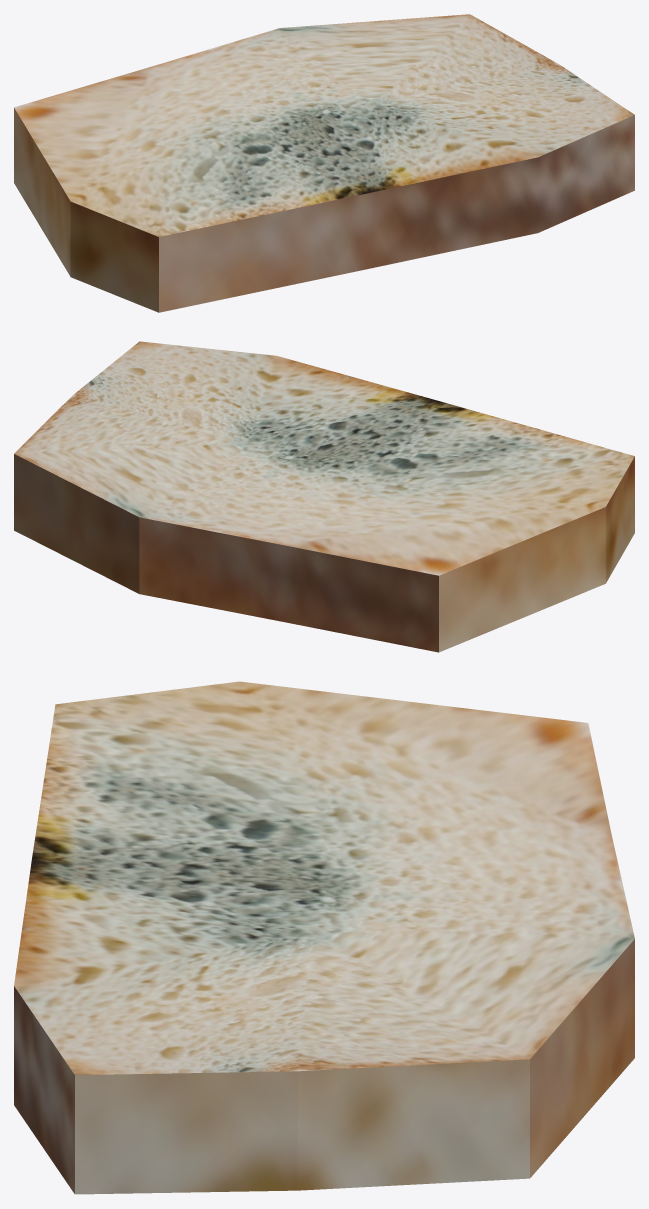
The model's file is bread.glb.
The picture shows the model from 3 angles, top to bottom: view 1: azimuth 30°, elevation 25°; view 2: azimuth 150°, elevation 25°; view 3: azimuth 270°, elevation 25°; orthographic projection. The views are drawn at different scales.
Visible parts, largest first — view 1: Bread; view 2: Bread; view 3: Bread.
Part boxes in pixels (bbox=[...]): Bread: bbox=[14, 14, 634, 312]; Bread: bbox=[14, 341, 634, 652]; Bread: bbox=[14, 681, 634, 1194].
Bounding box in the file's own units: 0.2128 × 0.0301 × 0.1418.
Materials: 1 (1 with a texture image).
